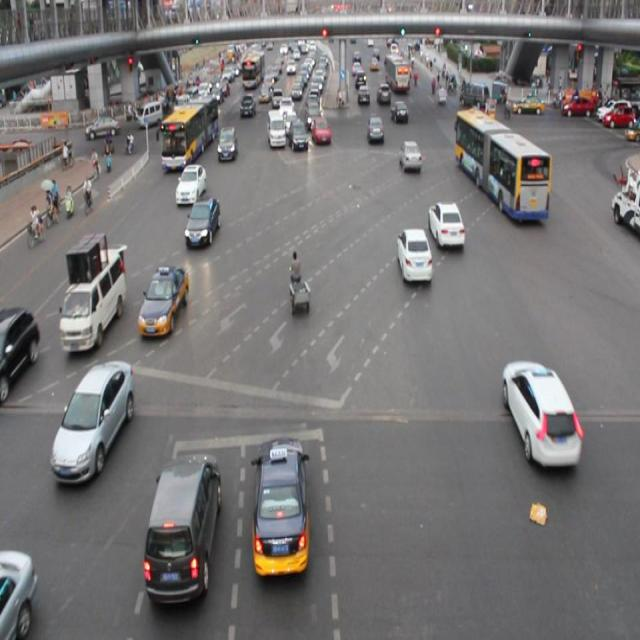car: (51, 361, 132, 485), (499, 358, 580, 468), (252, 436, 310, 579), (138, 264, 190, 338), (0, 305, 40, 399), (1, 545, 37, 640), (396, 229, 430, 283), (185, 197, 221, 247), (428, 202, 465, 246), (175, 164, 207, 205), (397, 139, 423, 175), (216, 126, 239, 164), (288, 116, 310, 155), (310, 116, 331, 149), (365, 114, 384, 146)
truck: (143, 454, 220, 602), (60, 238, 125, 349), (266, 110, 285, 150)
van: (456, 110, 546, 220), (160, 94, 217, 168)
